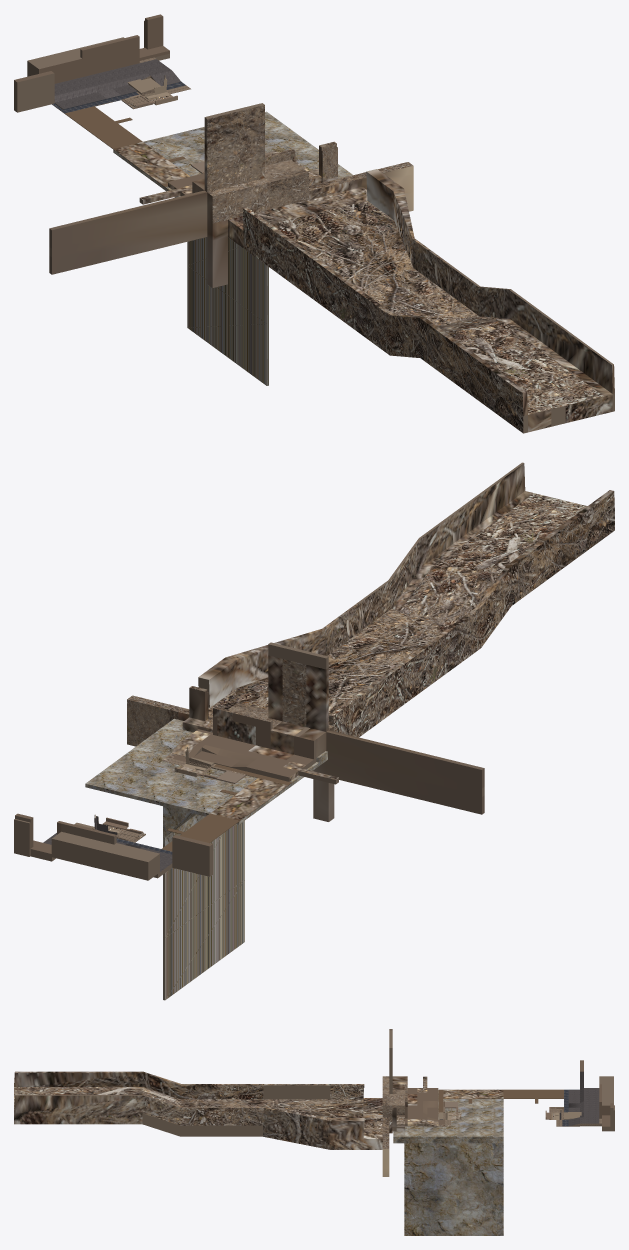
Rendered from decor09.obj.
3 views of the same model, one above another, from view 1: azimuth 30°, elevation 25°; view 2: azimuth 150°, elevation 25°; view 3: azimuth 270°, elevation 25° (orthographic). The views are drawn at different scales.
Parts seen in each view (by area): view 1: Plan.007_Plan.010, Plan.006_Plan.009, Plan.005; view 2: Plan.007_Plan.010, Plan.006_Plan.009, Plan.005; view 3: Plan.007_Plan.010, Plan.006_Plan.009, Plan.005.
Part boxes in pixels (x1,y1,x2,y2): Plan.007_Plan.010: [49, 103, 614, 433]; Plan.006_Plan.009: [113, 111, 352, 385]; Plan.005: [14, 14, 190, 148]; Plan.007_Plan.010: [127, 462, 614, 821]; Plan.006_Plan.009: [85, 718, 327, 1000]; Plan.005: [14, 813, 239, 880]; Plan.007_Plan.010: [14, 1029, 503, 1176]; Plan.006_Plan.009: [393, 1090, 503, 1235]; Plan.005: [503, 1060, 614, 1131].
Bounding box in the file's own units: 2646 × 2080 × 6190.
Materials: 4 (4 with a texture image).
